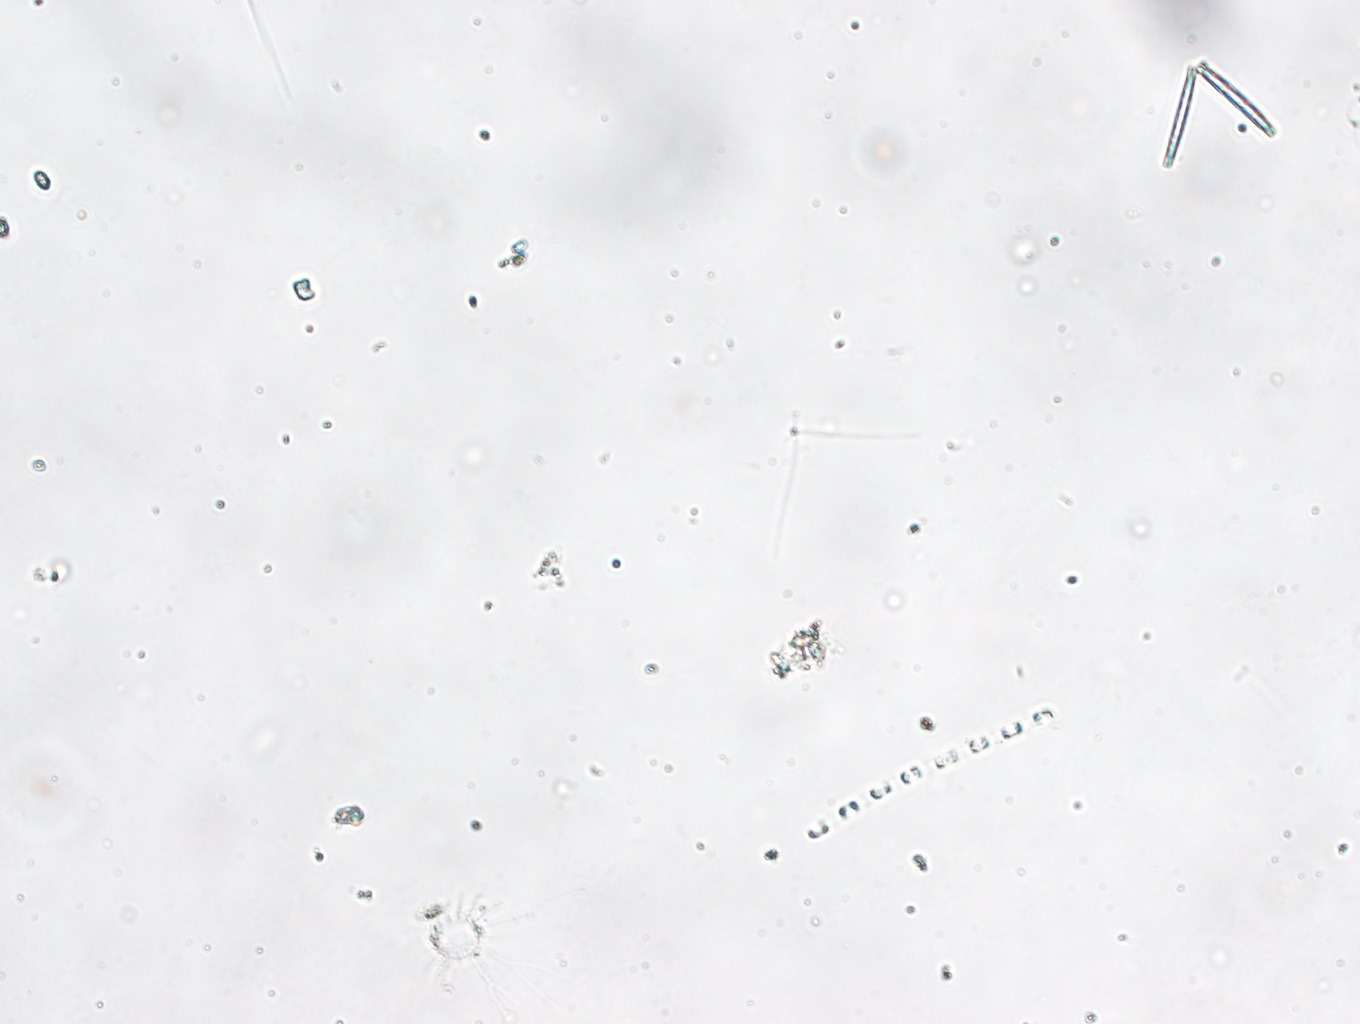skeletonema: (759, 700, 1085, 859)
thalassionema nitzschioides: (1160, 61, 1292, 175)
